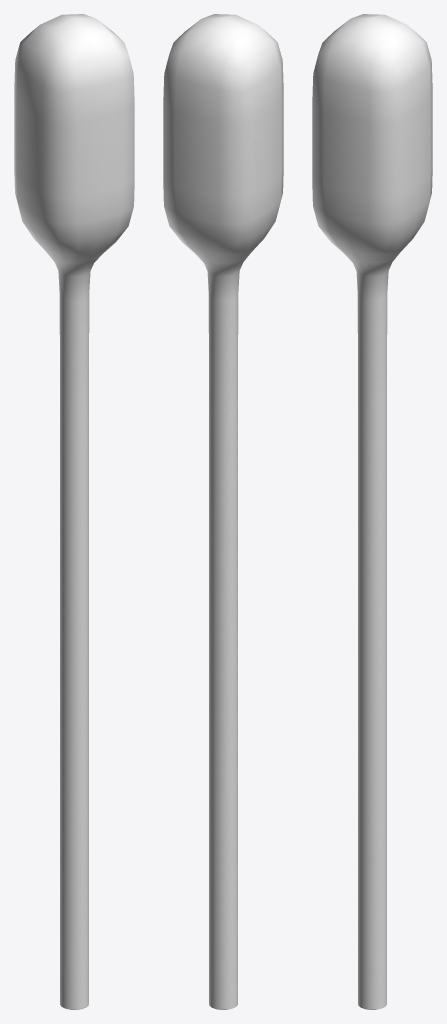
File: cattail_b_00.obj
The picture shows the model from 3 angles, left to right: view 1: azimuth 30°, elevation 25°; view 2: azimuth 150°, elevation 25°; view 3: azimuth 330°, elevation 25°; orthographic projection.
Size of the model in its own units: 0.2506 by 2.57 by 0.2506.
